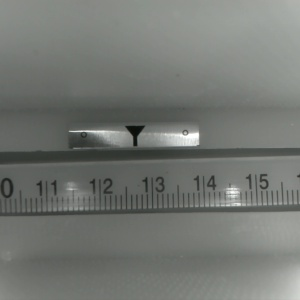0: (0, 177, 14, 198)
1: (193, 175, 200, 191), (35, 180, 42, 196), (50, 180, 57, 195), (88, 179, 95, 193), (246, 174, 252, 190), (141, 177, 147, 193), (296, 172, 300, 188)
2: (103, 178, 113, 193)
3: (154, 177, 164, 193)
4: (206, 176, 216, 191)
5: (259, 174, 268, 189)
finger: (122, 126, 145, 147)
